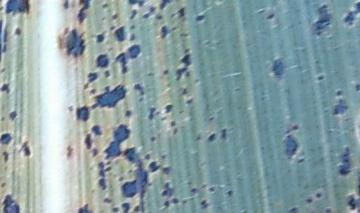tarspot: (120, 145, 148, 213), (103, 124, 132, 161), (56, 26, 88, 58), (90, 83, 128, 109), (111, 43, 142, 74), (310, 3, 333, 37), (347, 168, 360, 213), (175, 47, 191, 82), (335, 145, 353, 176), (96, 161, 111, 192), (283, 134, 299, 162), (343, 1, 360, 27), (4, 1, 30, 17), (2, 193, 22, 213), (330, 97, 349, 117), (76, 1, 91, 25), (270, 56, 285, 79), (1, 18, 9, 61), (159, 24, 178, 39), (17, 141, 33, 158), (75, 106, 91, 122), (95, 52, 110, 69), (139, 6, 157, 19), (114, 25, 127, 43), (83, 132, 94, 151), (161, 180, 173, 196), (132, 83, 146, 96), (146, 105, 156, 122), (1, 132, 13, 145), (94, 31, 106, 44), (86, 71, 99, 83), (90, 124, 103, 136), (76, 203, 91, 213), (158, 1, 174, 10), (149, 160, 160, 173), (125, 1, 148, 7), (128, 8, 138, 21), (178, 86, 189, 97), (176, 6, 186, 18), (65, 144, 73, 159), (204, 132, 217, 141), (220, 126, 227, 142), (8, 110, 18, 121), (1, 82, 11, 93), (195, 13, 206, 23), (161, 164, 171, 175), (164, 103, 173, 115), (2, 150, 10, 163), (199, 199, 209, 209), (313, 190, 324, 199), (62, 1, 72, 10), (334, 88, 344, 97), (109, 12, 119, 21), (120, 202, 128, 213), (128, 31, 136, 42), (81, 82, 90, 91), (265, 13, 275, 21), (143, 151, 151, 161), (183, 98, 194, 105), (13, 26, 21, 35), (290, 124, 299, 132), (169, 120, 177, 129), (194, 133, 202, 142), (171, 196, 179, 205), (162, 200, 171, 208), (305, 196, 313, 205), (315, 75, 325, 82), (353, 82, 360, 92), (100, 2, 110, 9), (103, 68, 110, 78), (90, 148, 97, 158), (178, 32, 189, 38), (66, 105, 74, 113), (1, 181, 9, 189), (190, 187, 198, 195), (180, 198, 188, 206), (297, 157, 306, 164), (88, 88, 97, 95), (129, 22, 136, 31), (161, 69, 170, 76), (287, 206, 296, 213), (192, 78, 201, 85), (323, 207, 333, 213), (283, 128, 291, 135), (208, 115, 215, 123), (173, 127, 178, 138), (101, 197, 110, 203), (208, 186, 215, 193), (109, 24, 116, 31), (159, 153, 166, 160), (149, 135, 156, 142), (226, 189, 232, 197), (125, 109, 131, 117), (177, 109, 185, 115), (1, 115, 6, 124), (146, 72, 155, 77), (157, 14, 163, 21), (137, 97, 144, 103), (112, 206, 117, 212), (1, 4, 4, 13)
